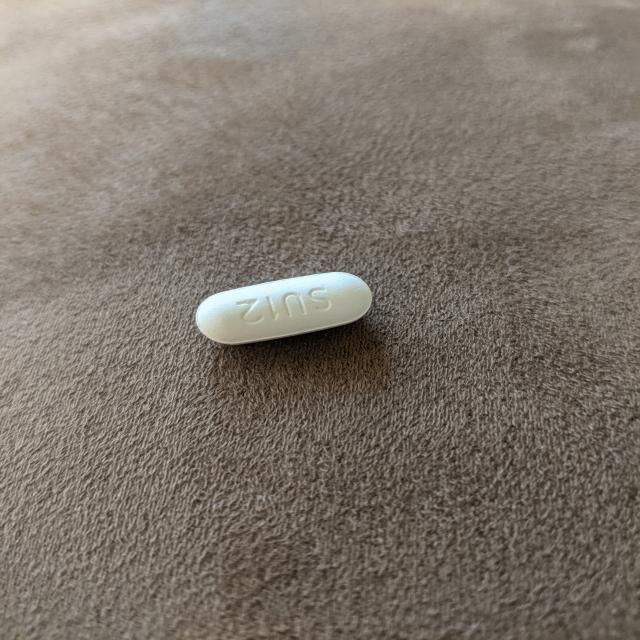non-organic waste: (194, 270, 374, 346)
